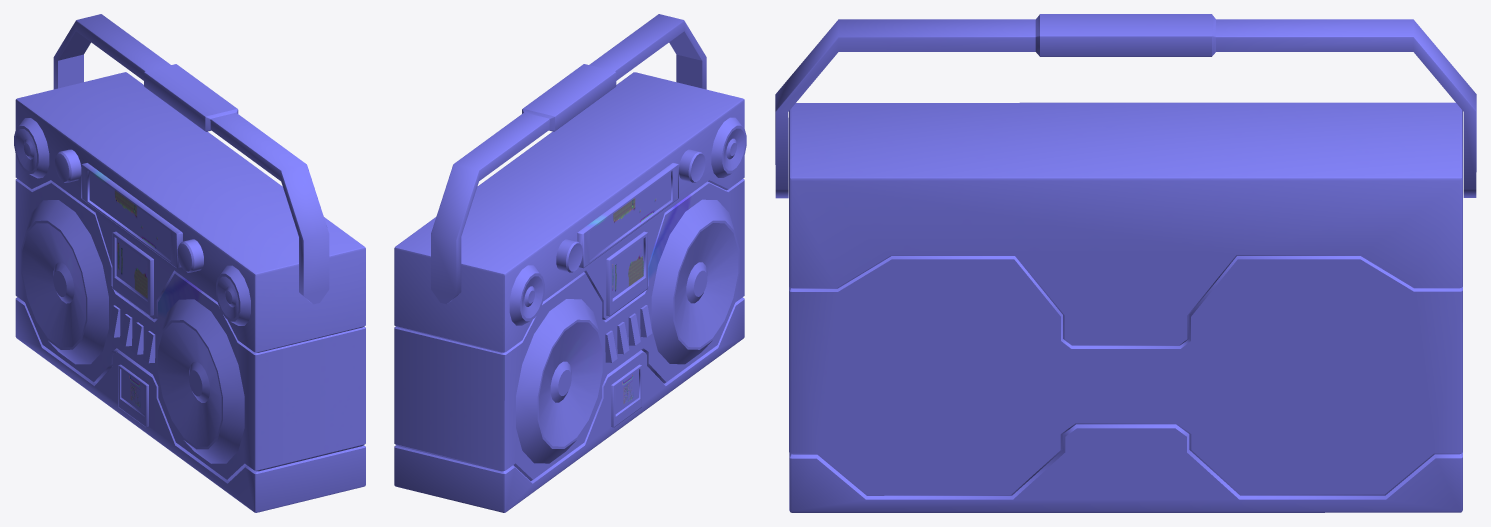
File: (Radio).fbx
3 renders of one model, left to right at view 1: azimuth 30°, elevation 25°; view 2: azimuth 150°, elevation 25°; view 3: azimuth 270°, elevation 25°, orthographic. The views are drawn at different scales.
Visible parts, largest first — view 1: Boombox_LOD0; view 2: Boombox_LOD0; view 3: Boombox_LOD0.
Boxes of the visible parts, x1,y1,x2,y2 form: Boombox_LOD0: [14, 14, 365, 512]; Boombox_LOD0: [394, 14, 746, 512]; Boombox_LOD0: [775, 14, 1476, 512].
Bounding box in the file's own units: 18.77 × 46.34 × 65.22.
